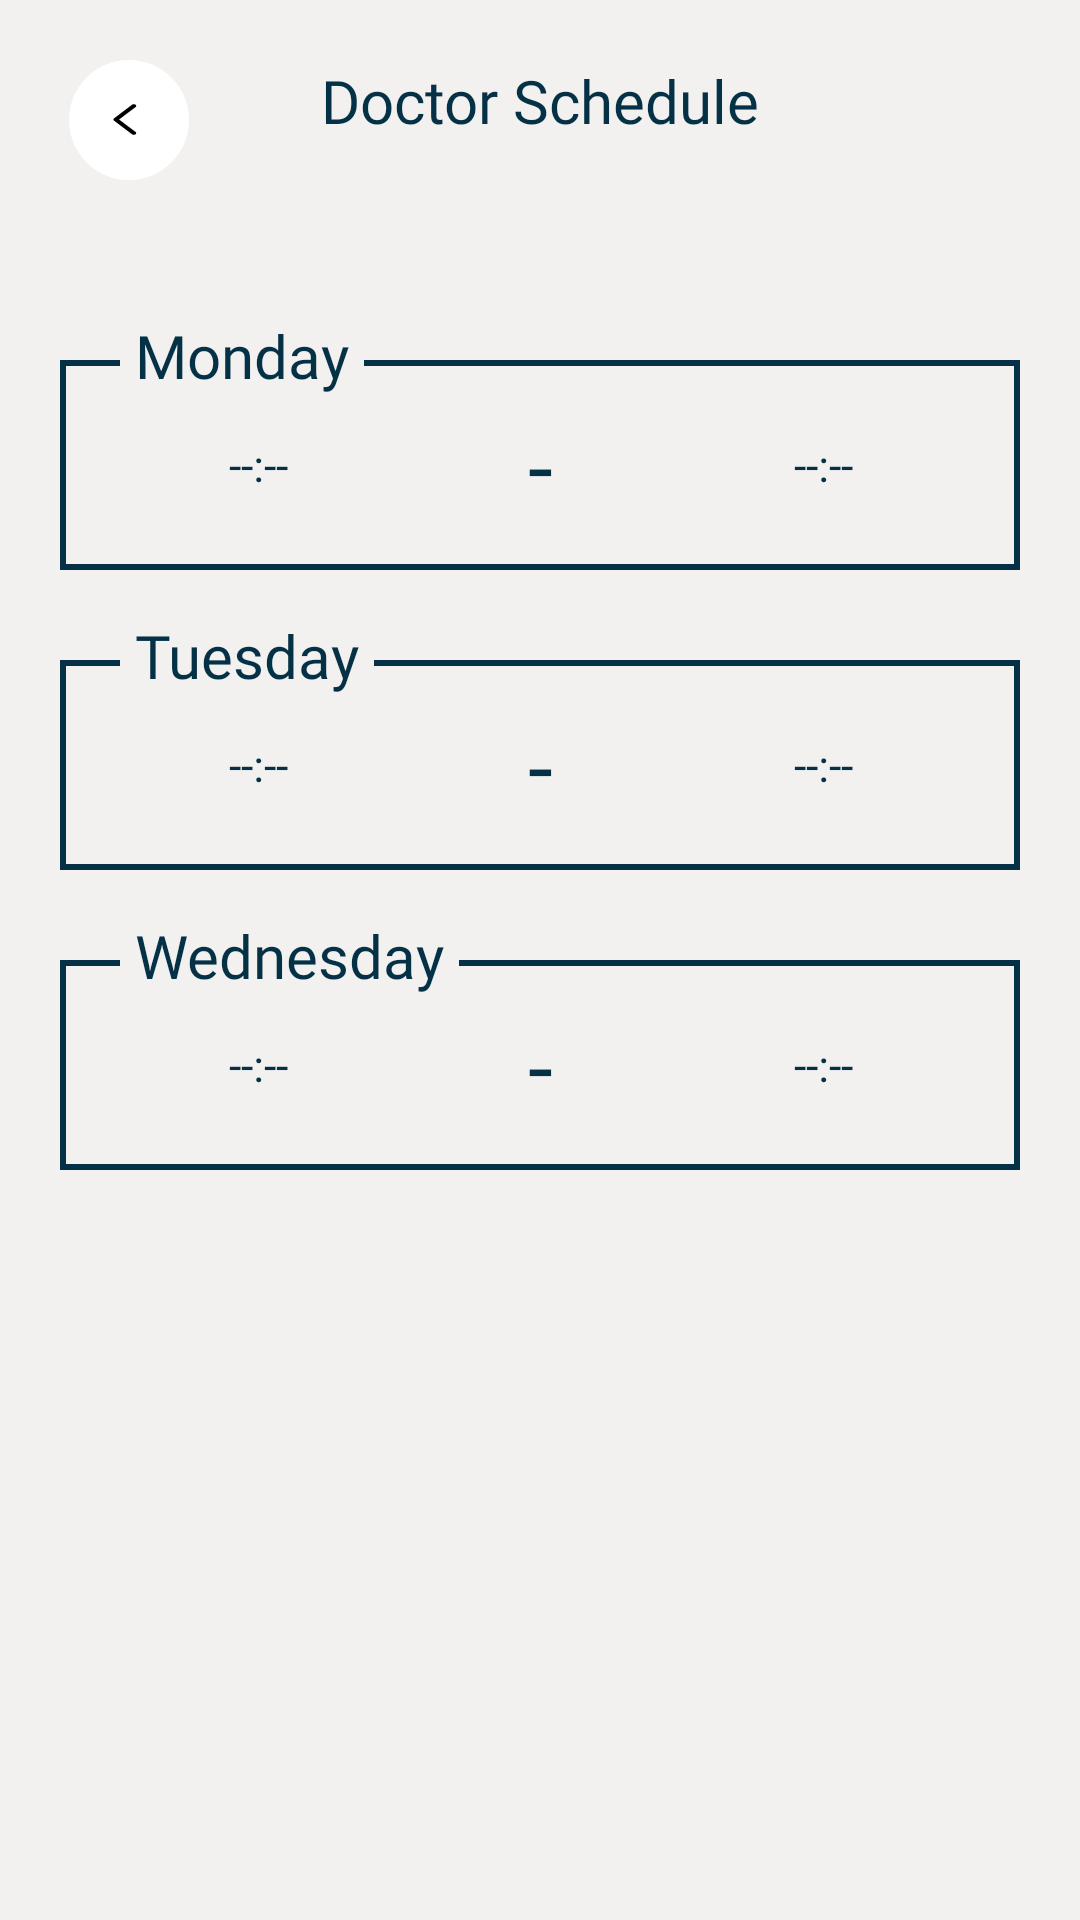

Point at icon controls on the screen. Image size 1080×1920, points as (x,y).
back arrow: (125,119)
